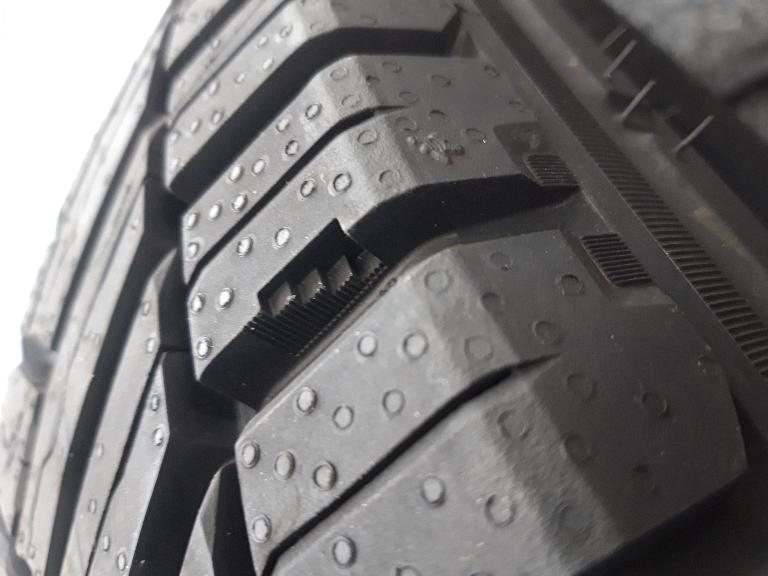temoin:100: (236, 212, 396, 365)
